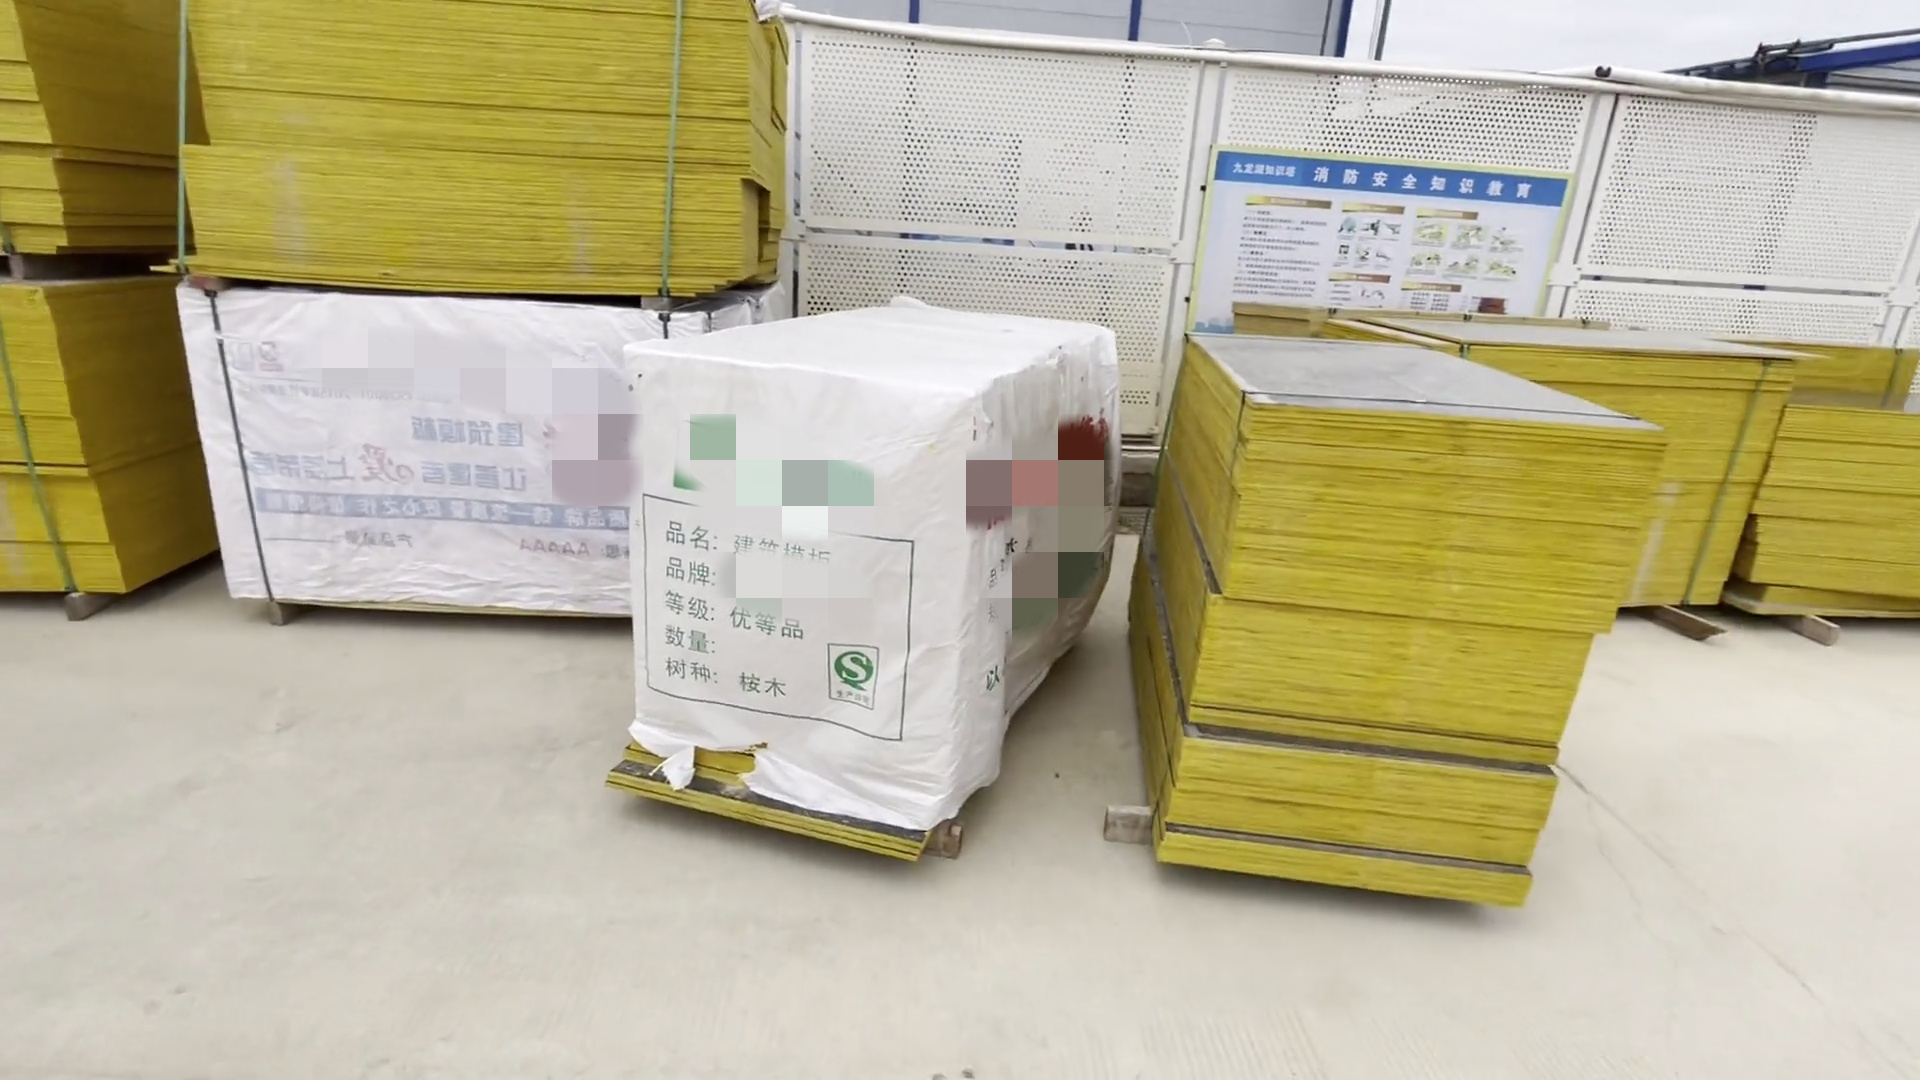board: (1167, 338, 1660, 931), (178, 16, 808, 313)
